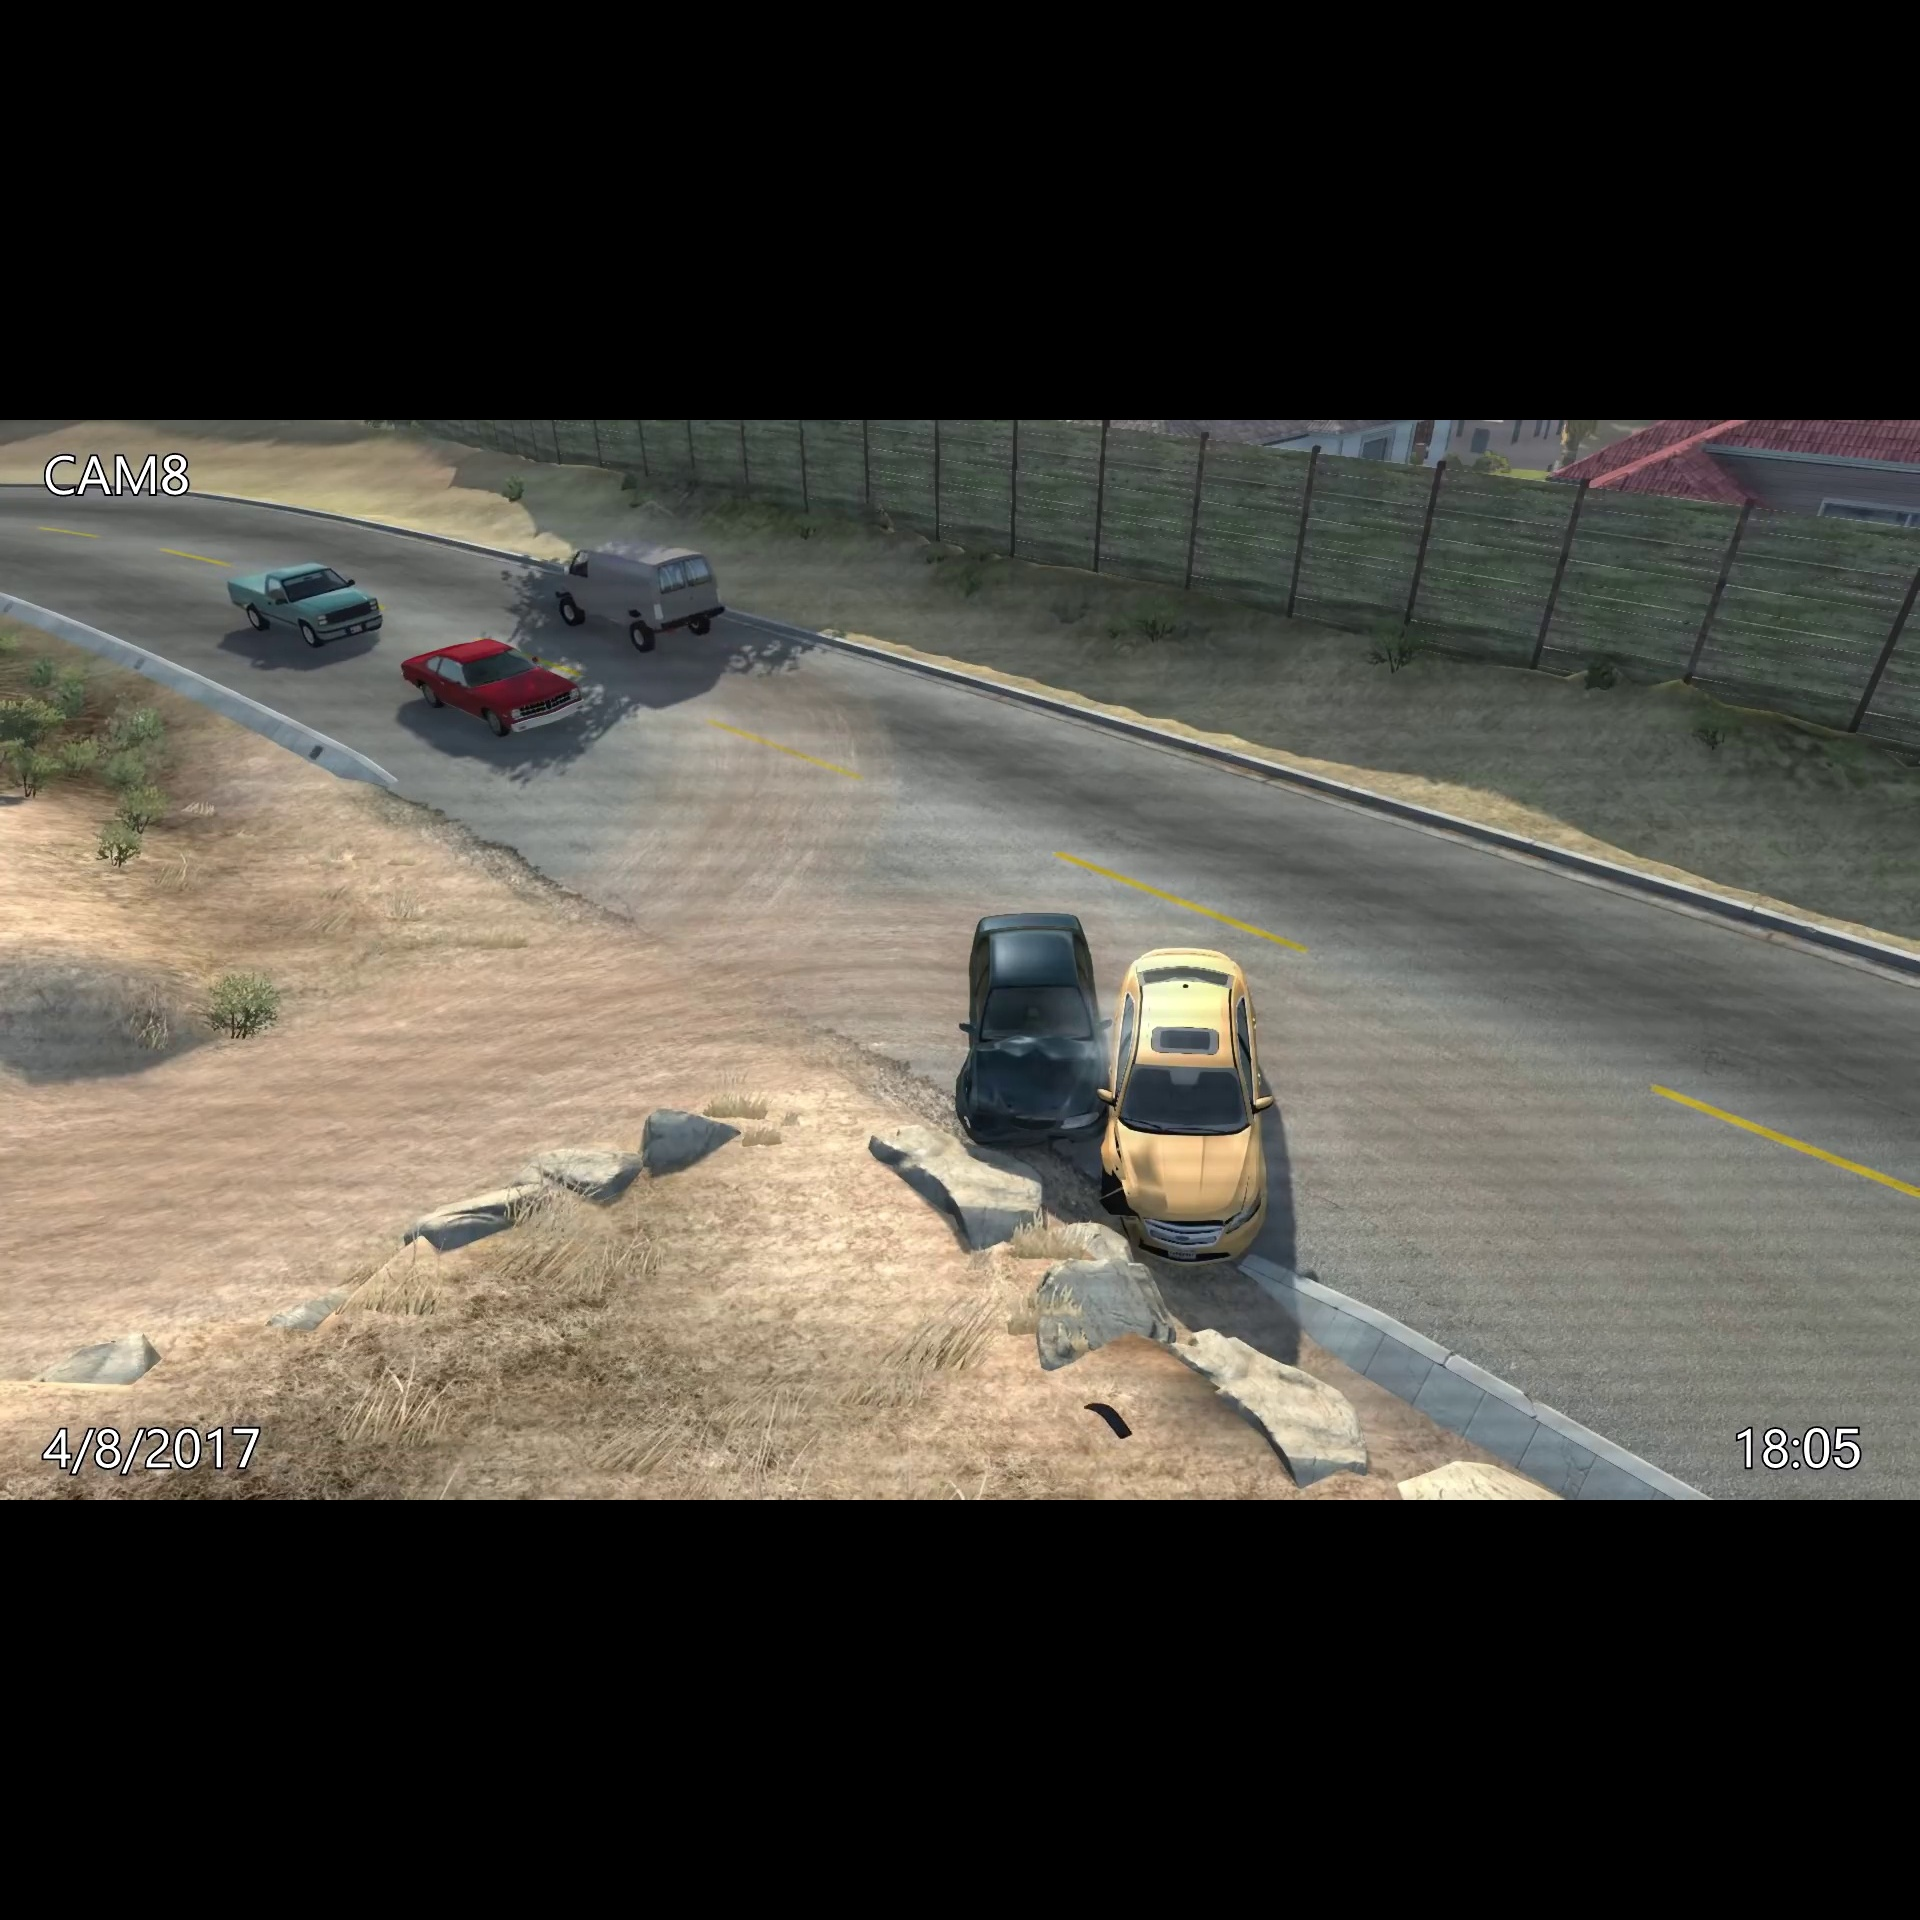vehicle: (1102, 937, 1284, 1275), (946, 904, 1109, 1164), (394, 631, 587, 742), (549, 542, 731, 656), (216, 554, 387, 652)
